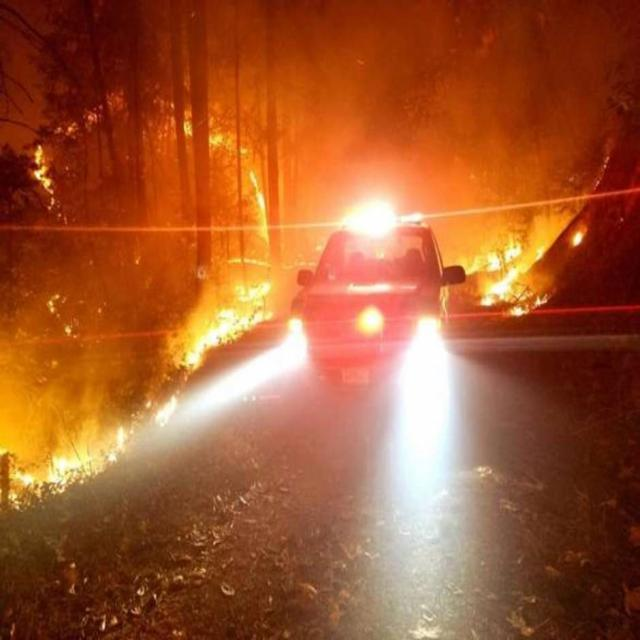Fire: (164, 259, 277, 365), (185, 109, 275, 241), (476, 230, 586, 332), (10, 416, 123, 489), (26, 138, 64, 211)
